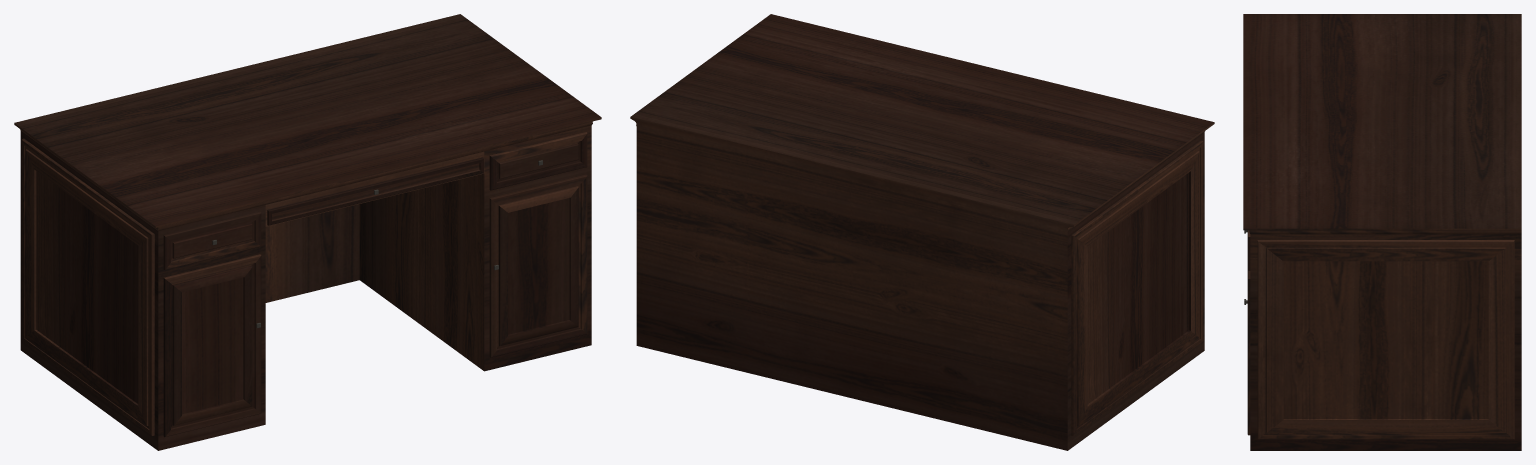
The model's file is desk_opt.glb.
3 views of the same model, side by side, from view 1: azimuth 30°, elevation 25°; view 2: azimuth 150°, elevation 25°; view 3: azimuth 270°, elevation 25° (orthographic).
Visible parts, largest first — view 1: Object_2; view 2: Object_2; view 3: Object_2.
Boxes of the visible parts, x1,y1,x2,y2 form: Object_2: (14, 14, 601, 450); Object_2: (630, 14, 1214, 450); Object_2: (1243, 14, 1521, 450).
Size of the model in its own units: 1.16 by 0.5692 by 0.6372.
1 material, 1 textured.
